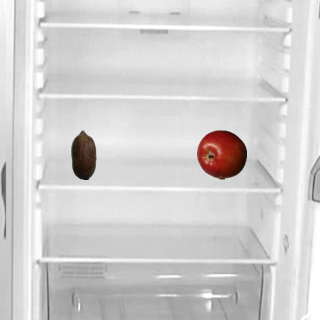Apple Braeburn: (196, 129, 246, 179)
Nut Pecan: (58, 129, 108, 179)
